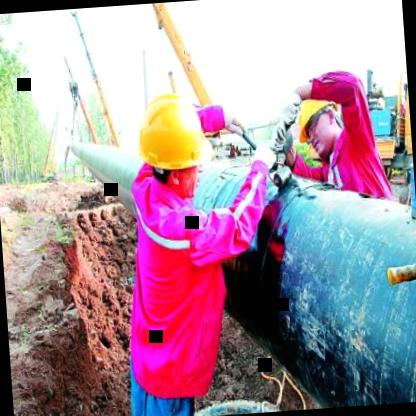helmet: (128, 82, 219, 207), (288, 94, 350, 164)
